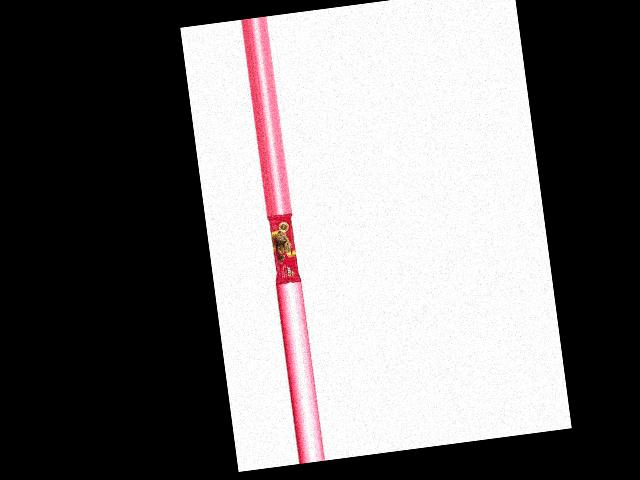chocolate: (264, 214, 300, 286)
